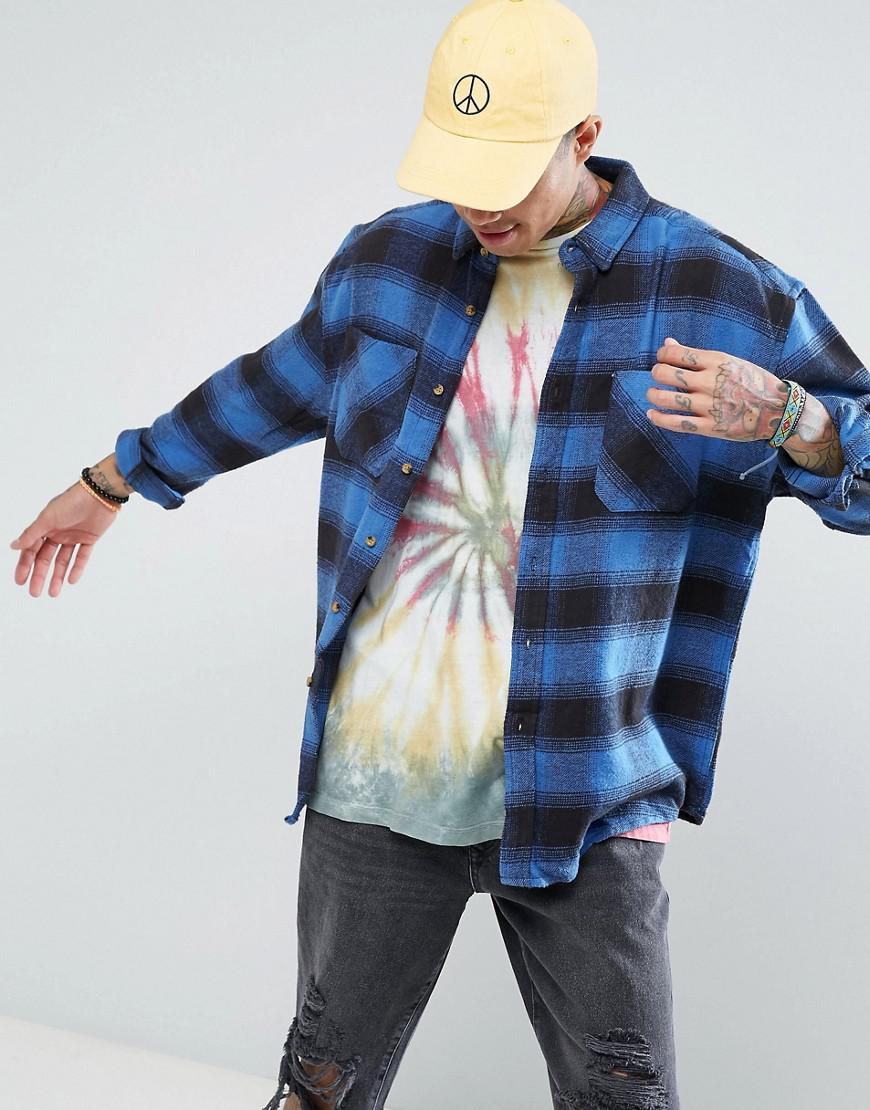teeshirt: (118, 235, 840, 834)
